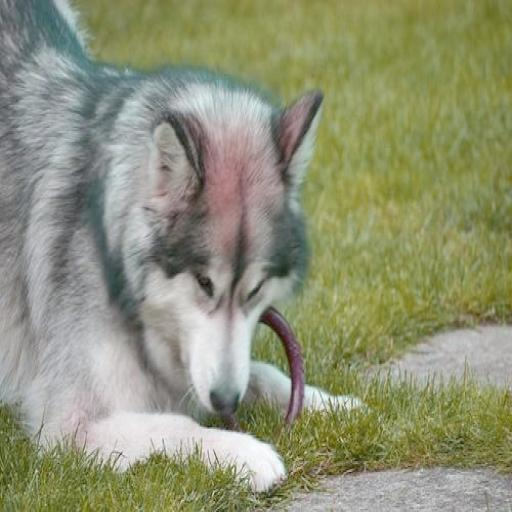dog_face: (150, 89, 312, 404)
